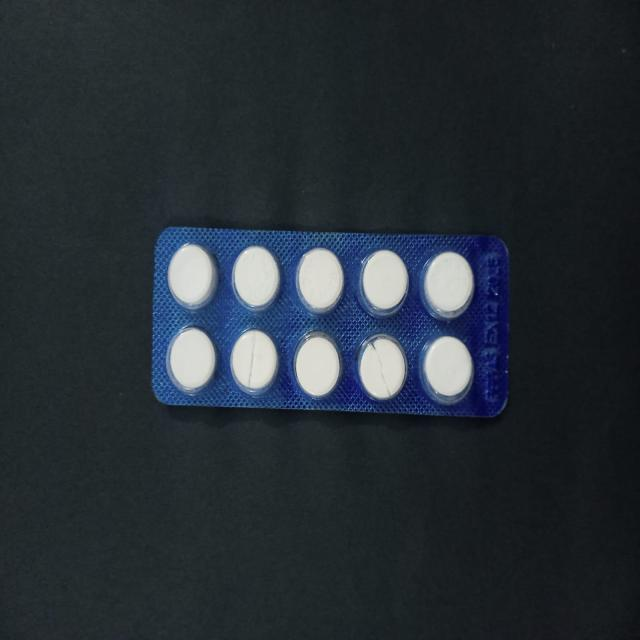defect: (354, 332, 410, 405), (228, 326, 282, 399)
